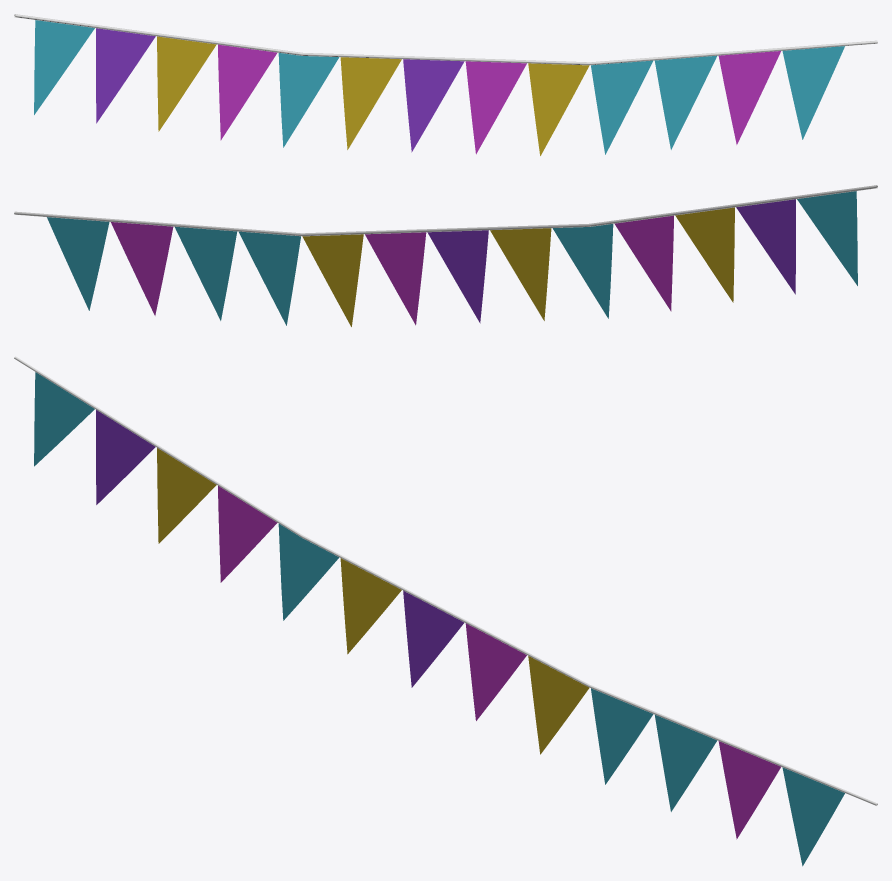
The model's file is Generall_Flags_1.fbx.
3 views of the same model, one above another, from view 1: azimuth 30°, elevation 25°; view 2: azimuth 150°, elevation 25°; view 3: azimuth 330°, elevation 25° (orthographic).
Visible parts, largest first — view 1: Plane.481; view 2: Plane.481; view 3: Plane.481.
Boxes of the visible parts, x1,y1,x2,y2 form: Plane.481: (14,14,877,155); Plane.481: (14,185,877,326); Plane.481: (14,356,877,866).
Size of the model in its own units: 801 by 282 by 2.71.
